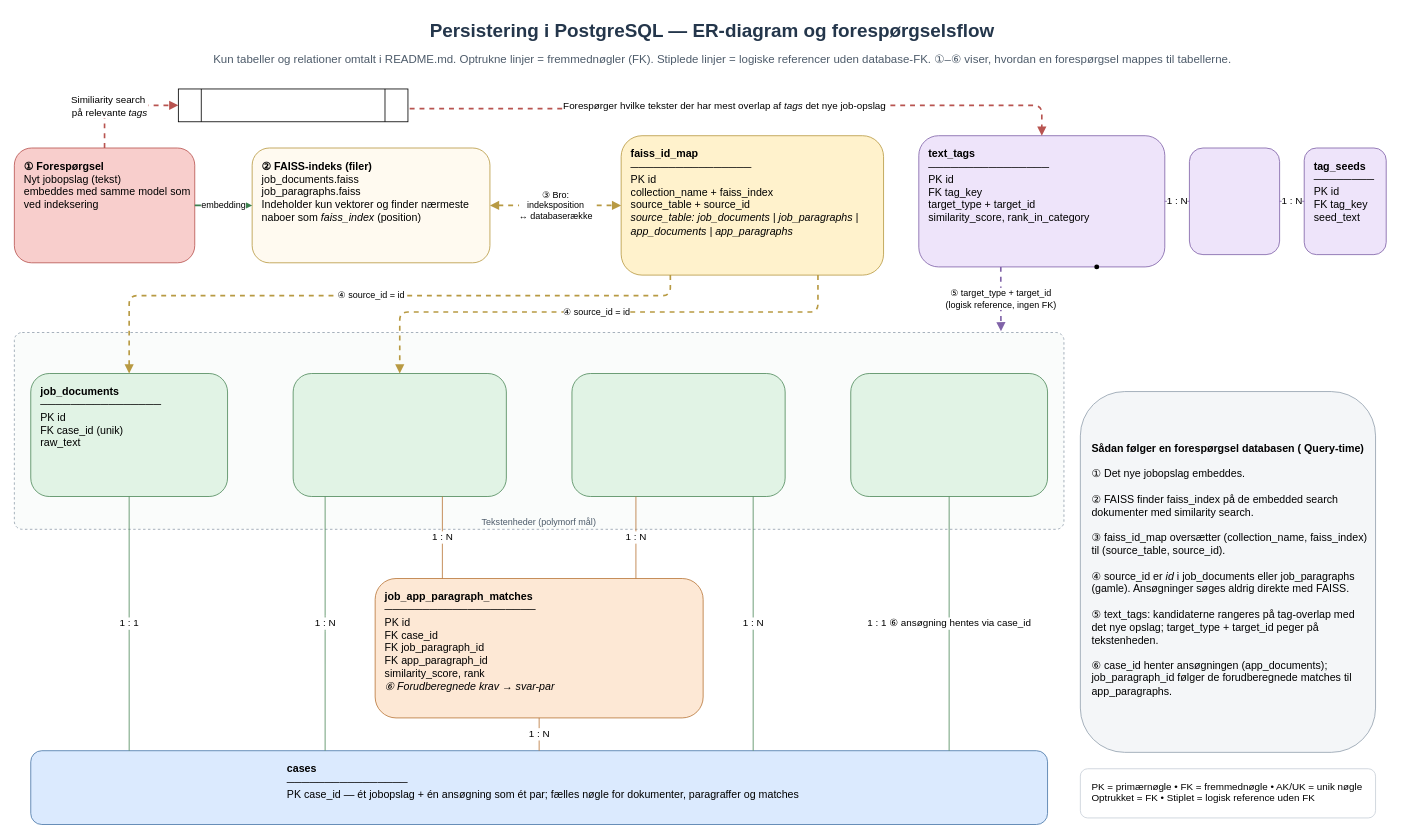
Image size: 1401x839. Some labels were removed from this diagram. The centre of each missing label's shape, as x and y in pixels:
app_documents ──────────────── PK id FK case_id (unik) raw_text: pixel 949 435
app_paragraphs ──────────────── PK id AK paragraph_id FK case_id text: pixel 678 435
job_paragraphs ──────────────── PK id AK paragraph_id FK case_id text: pixel 399 435
Search algoritme ( search_job_application_rag.py ): pixel 293 105
tags ───────── PK id UK tag_key top_category: pixel 1234 201
